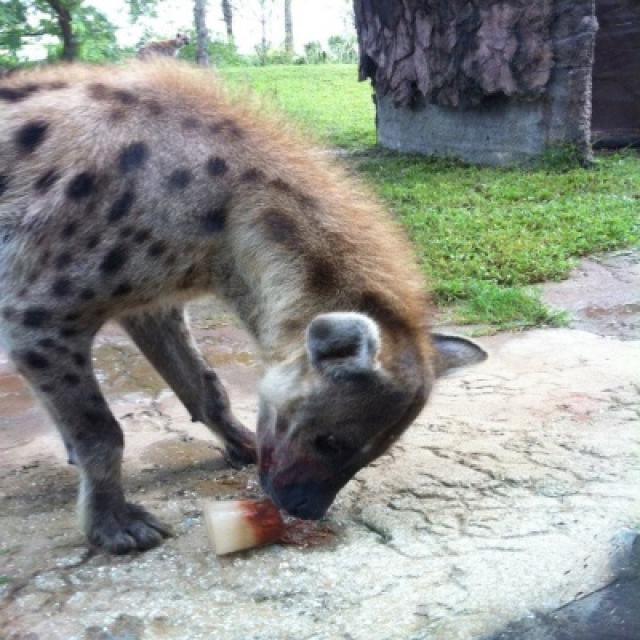hyena: (0, 58, 443, 562)
